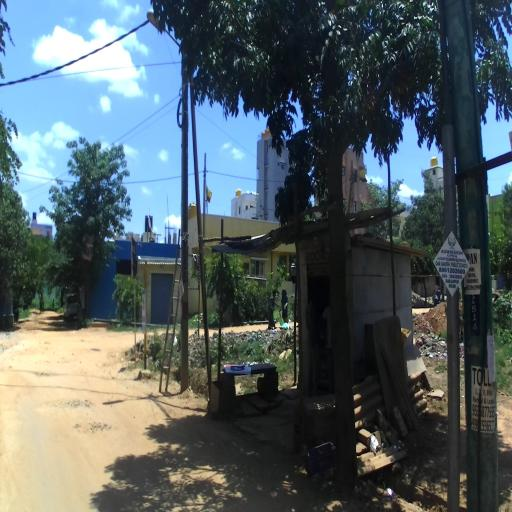street_light_0: (146, 8, 188, 56)
